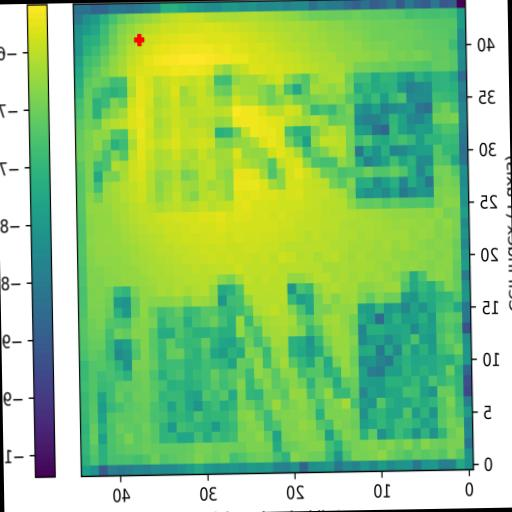Concrete: (154, 76, 234, 204)
Glass: (354, 71, 434, 198)
Metal: (156, 307, 238, 444)
Wood: (356, 302, 438, 440)
